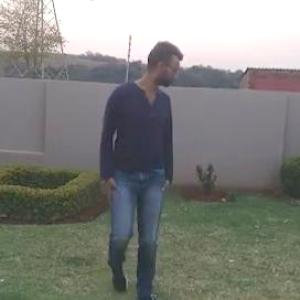follow: (96, 30, 182, 283)
